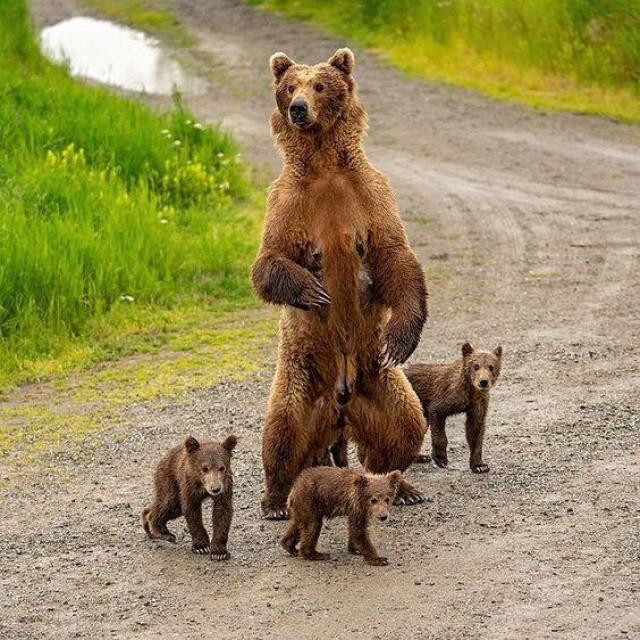Bear: (250, 49, 428, 522), (402, 345, 504, 475), (280, 465, 402, 567), (142, 436, 237, 561)
